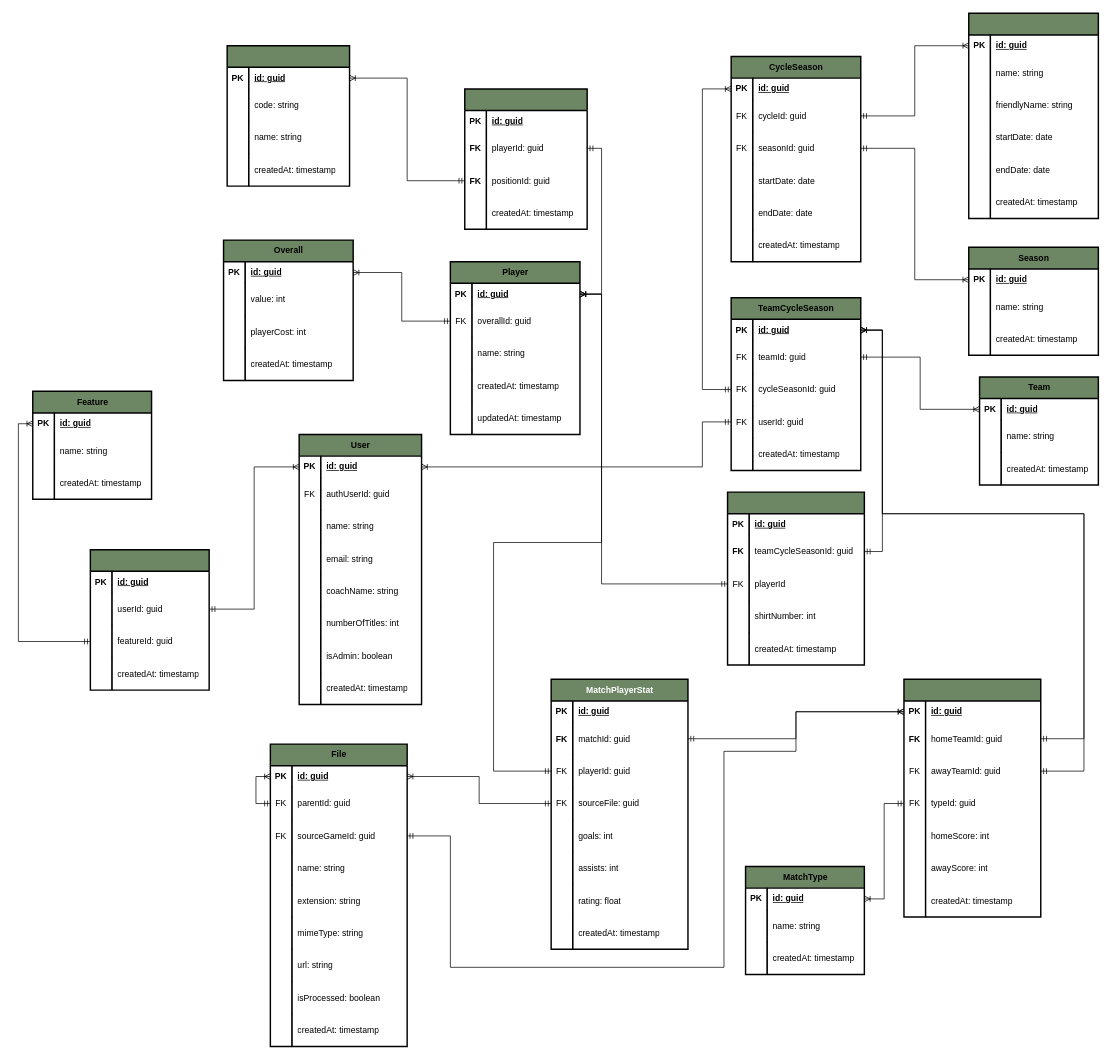
This 1112x1059 diagram has some shape labels left out. Here are the shapes that lost their labels. From the top down, the box of each, then its label:
(226, 45, 350, 186): Position
(968, 12, 1099, 219): Cycle
(464, 88, 588, 230): PlayerPosition
(726, 491, 865, 665): TeamSquad
(89, 549, 210, 690): UserFeature
(903, 678, 1041, 917): Match
